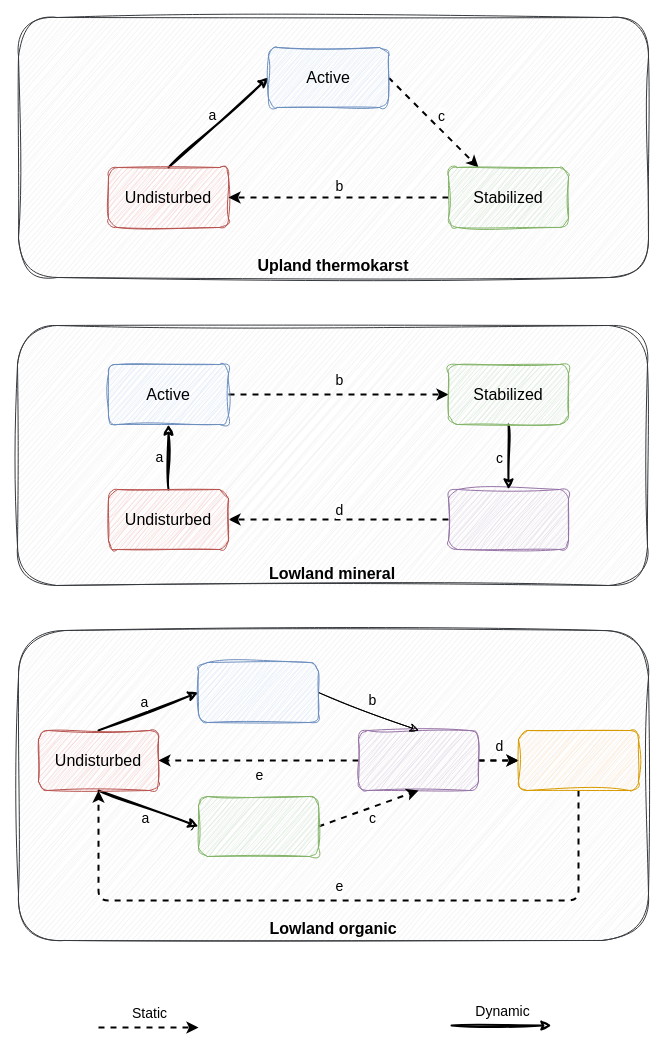
Some shapes in this 666 by 1054 pixel diagram are drawn without their labels. Here are the shapes that lost their labels. From the top down, the centre of each, then its label:
At pixel 508 519: "Drained".
At pixel 258 692: "Active lake".
At pixel 418 760: "Bog".
At pixel 578 760: "Fen".
At pixel 258 826: "Active wetland".
